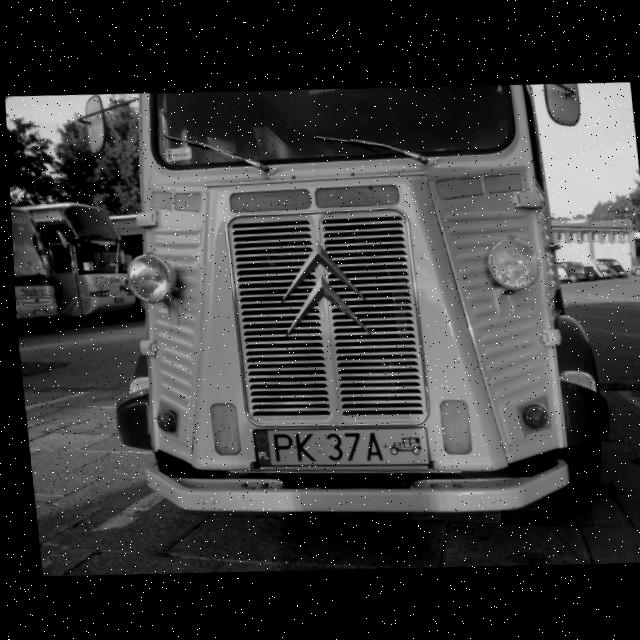license-plates: (254, 428, 431, 468)
